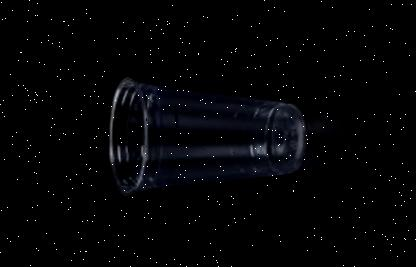Others: (109, 77, 306, 194)
